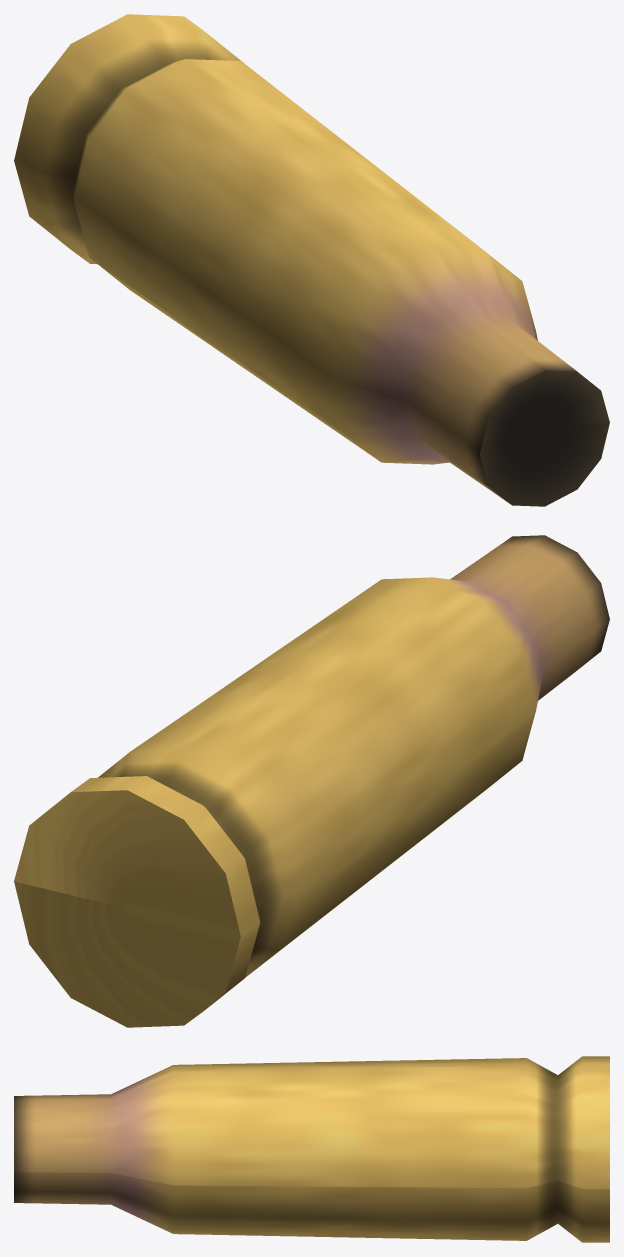
File: duckov_shell_casing.obj
3 renders of one model, top to bottom at view 1: azimuth 30°, elevation 25°; view 2: azimuth 150°, elevation 25°; view 3: azimuth 270°, elevation 25°, orthographic. The views are drawn at different scales.
Visible parts, largest first — view 1: DuckovShellCasing; view 2: DuckovShellCasing; view 3: DuckovShellCasing.
Part boxes in pixels (box(x1,y1,x2,y2)): DuckovShellCasing: box(14, 14, 609, 506); DuckovShellCasing: box(14, 535, 609, 1027); DuckovShellCasing: box(14, 1056, 609, 1242).
Size of the model in its own units: 0.054 by 0.054 by 0.172.
1 material, 1 textured.
